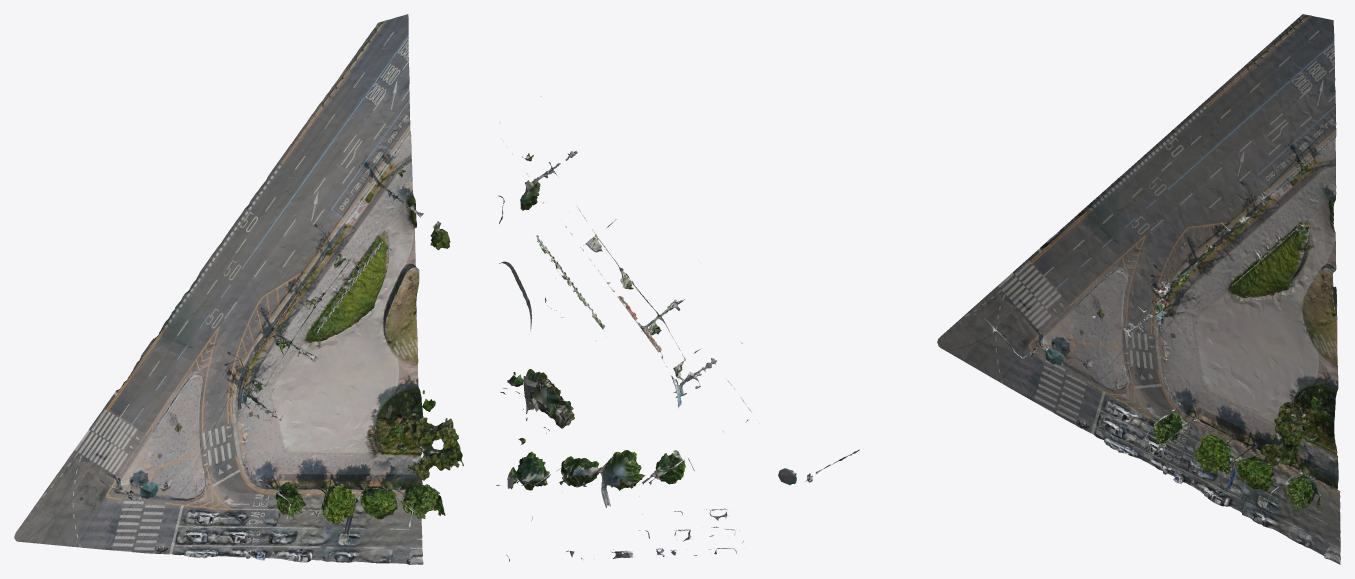
The model's file is Tile_+000_+002.obj_deoffset.glb.
3 views of the same model, side by side, from view 1: azimuth 30°, elevation 25°; view 2: azimuth 150°, elevation 25°; view 3: azimuth 330°, elevation 25° (orthographic). The views are drawn at different scales.
Parts seen in each view (by area): view 1: Node; view 2: Node; view 3: Node.
Boxes of the visible parts, x1,y1,x2,y2 form: Node: (14,14,463,564); Node: (496,96,859,561); Node: (937,14,1340,564).
Size of the model in its own units: 74.74 by 95.8 by 15.6.
1 material, 1 textured.
